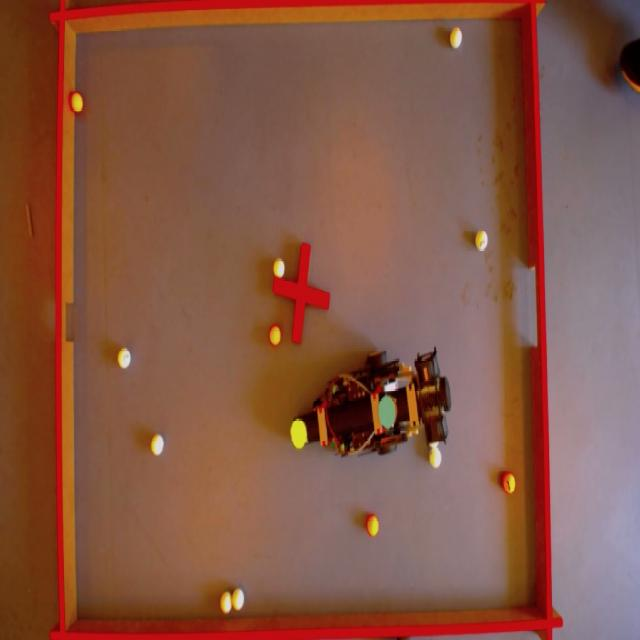orange: (502, 474, 518, 494), (70, 91, 84, 112), (268, 326, 282, 346), (366, 516, 380, 536)
robot: (285, 355, 461, 464)
robot-front: (290, 418, 309, 450)
robot-rear: (376, 393, 396, 431)
white: (429, 446, 444, 468), (232, 588, 246, 610), (152, 434, 165, 457), (118, 347, 132, 368), (449, 27, 463, 48), (220, 591, 233, 613), (272, 258, 285, 279), (475, 230, 488, 249)
